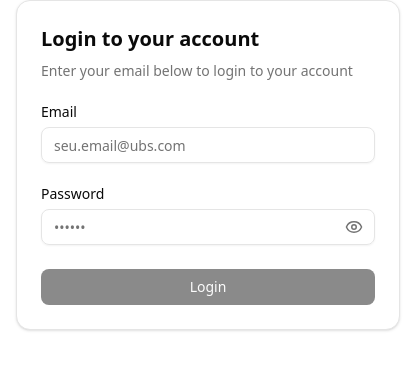
LoginForm › shows error for password with less than 6 characters
In the password field labelled "Password": (208, 227) [41,209,375,245], type "12345"
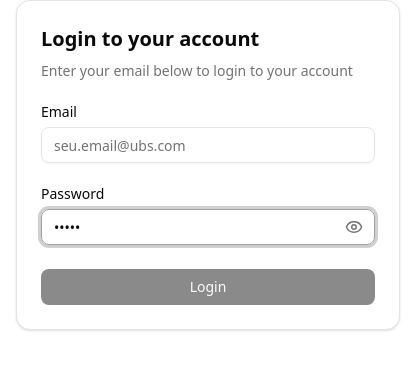
Press Tab
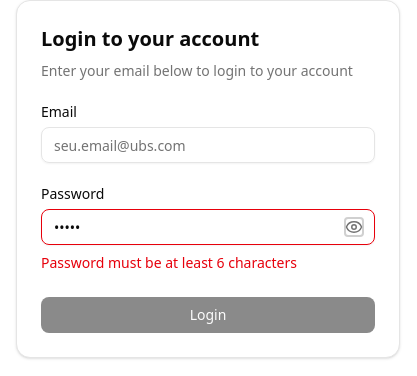
Check: the text "Password must be at least 6 characters" is shown, box [41,253,297,272]
